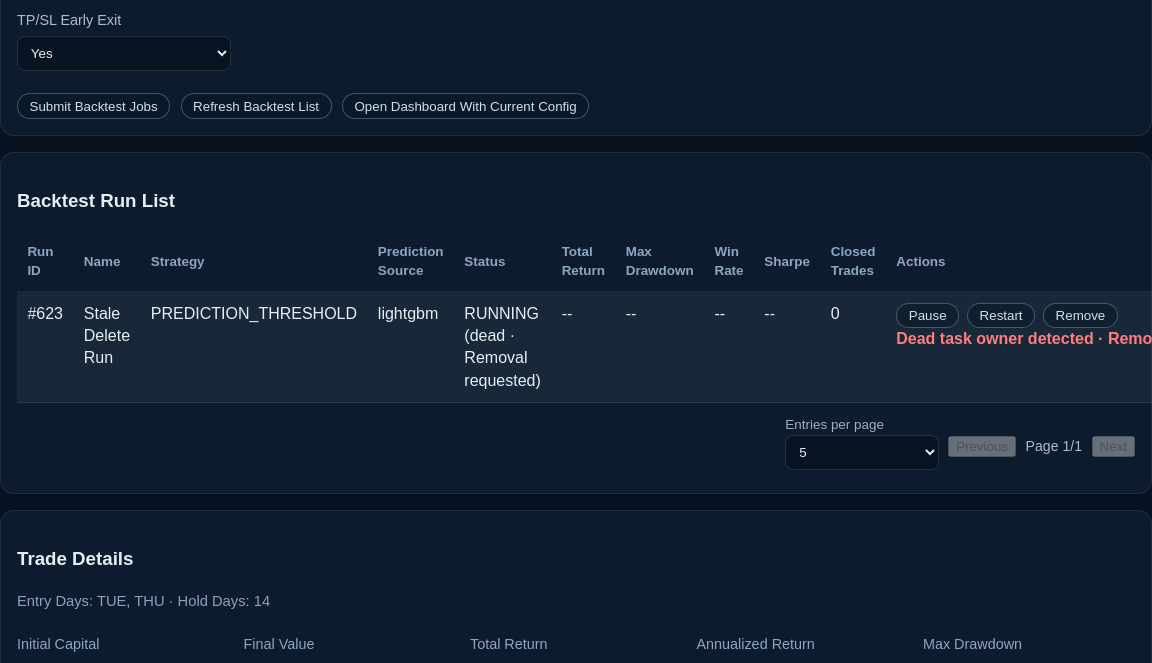
Scenario: BacktestWorkbenchPage runner controls › shows dead status and allows removing a stale running row
This screenshot has width=1152, height=663.
(page scrolled)
Expected: the text "Stale Delete Run" is shown, [73, 292, 140, 403]
Expected: the text "RUNNING (dead · Removal requested)" is shown, [454, 292, 551, 403]
Click the button "Remove" at x=1080, y=315, box [1043, 302, 1118, 328]
(page scrolled)
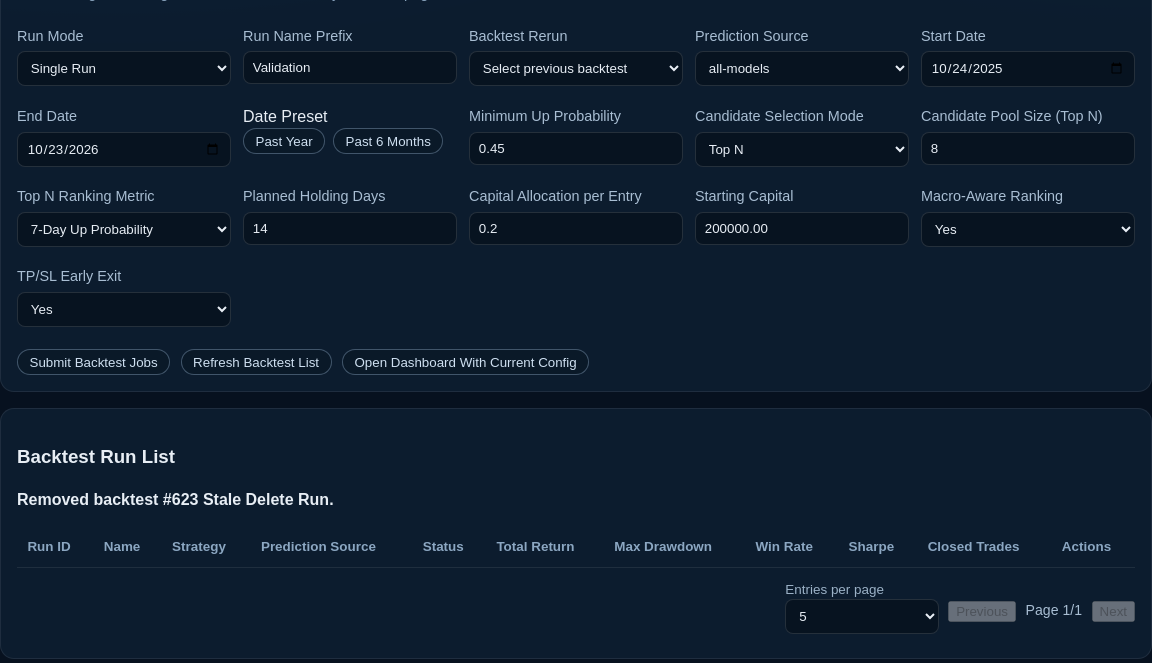
Result: the text "Removed backtest #623 Stale Delete Run." is shown at [17, 491, 334, 508]
